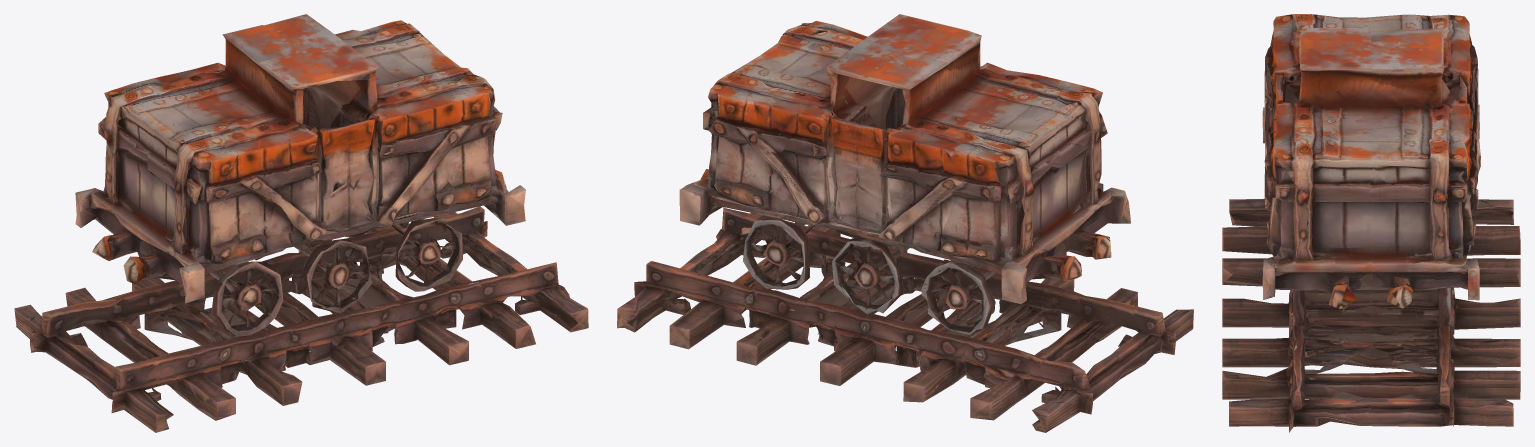
File: minecart_rusted.glb
The picture shows the model from 3 angles, left to right: view 1: azimuth 30°, elevation 25°; view 2: azimuth 150°, elevation 25°; view 3: azimuth 270°, elevation 25°; orthographic projection.
Size of the model in its own units: 1.9 by 1.1 by 1.08.
Materials: 1 (1 with a texture image).
